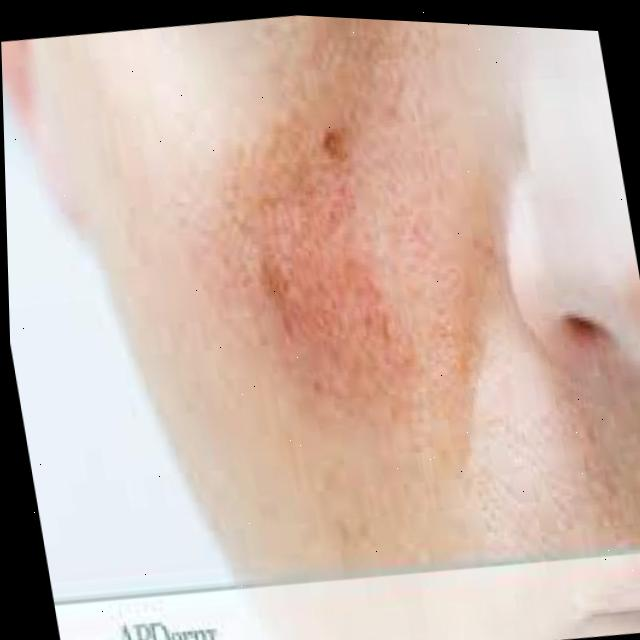Rosacea: (199, 115, 395, 396)
